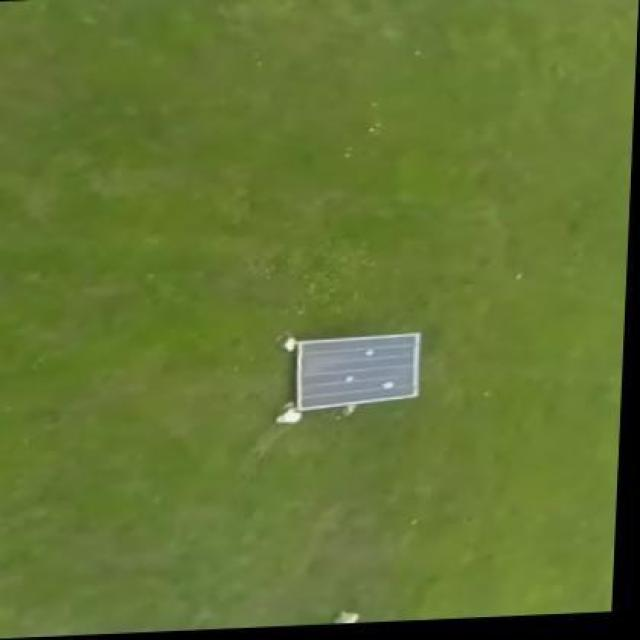soiled: (298, 328, 436, 410)
